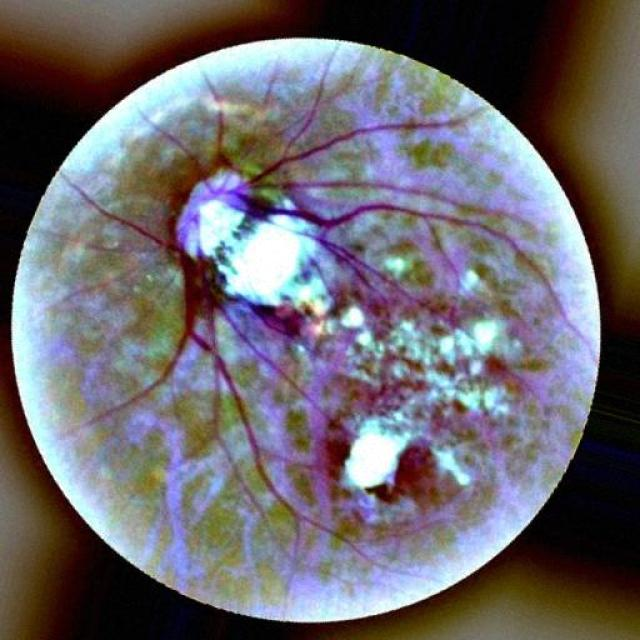Macula: (324, 445, 450, 514)
Nerves: (220, 56, 480, 191), (263, 179, 532, 226), (159, 246, 229, 385)
Optic Disk: (176, 170, 334, 318)
